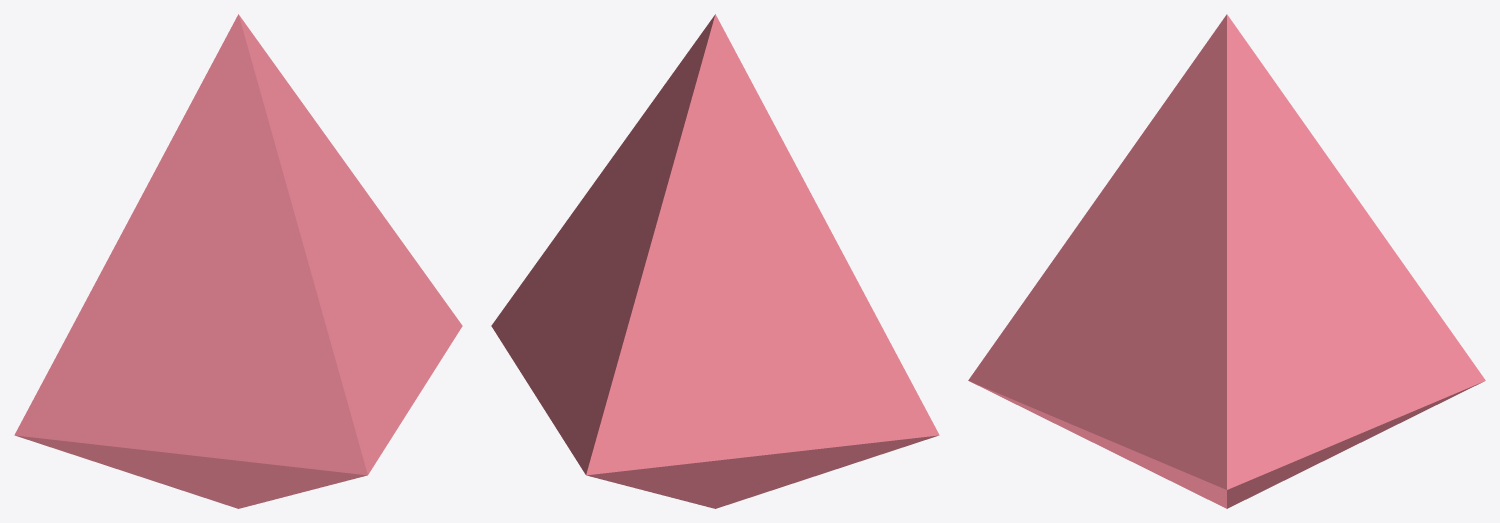
File: phiras.gltf
The picture shows the model from 3 angles, left to right: view 1: azimuth 30°, elevation 25°; view 2: azimuth 150°, elevation 25°; view 3: azimuth 270°, elevation 25°; orthographic projection.
Visible parts, largest first — view 1: phiras; view 2: phiras; view 3: phiras.
Boxes of the visible parts, x1,y1,x2,y2 form: phiras: [14, 14, 462, 508]; phiras: [491, 14, 939, 508]; phiras: [968, 14, 1485, 508].
Bounding box in the file's own units: 0.32 × 0.3375 × 0.32.
